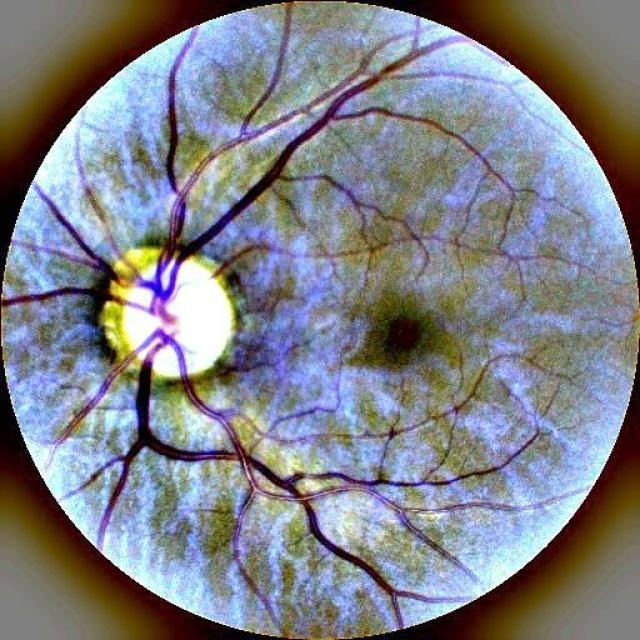Macula: (381, 312, 437, 368)
Nerves: (115, 29, 378, 328), (130, 330, 299, 498), (99, 355, 228, 539), (2, 181, 119, 309), (225, 4, 313, 146), (75, 140, 120, 258), (55, 374, 115, 444), (306, 510, 356, 564)
Optic Disk: (125, 265, 237, 373)
